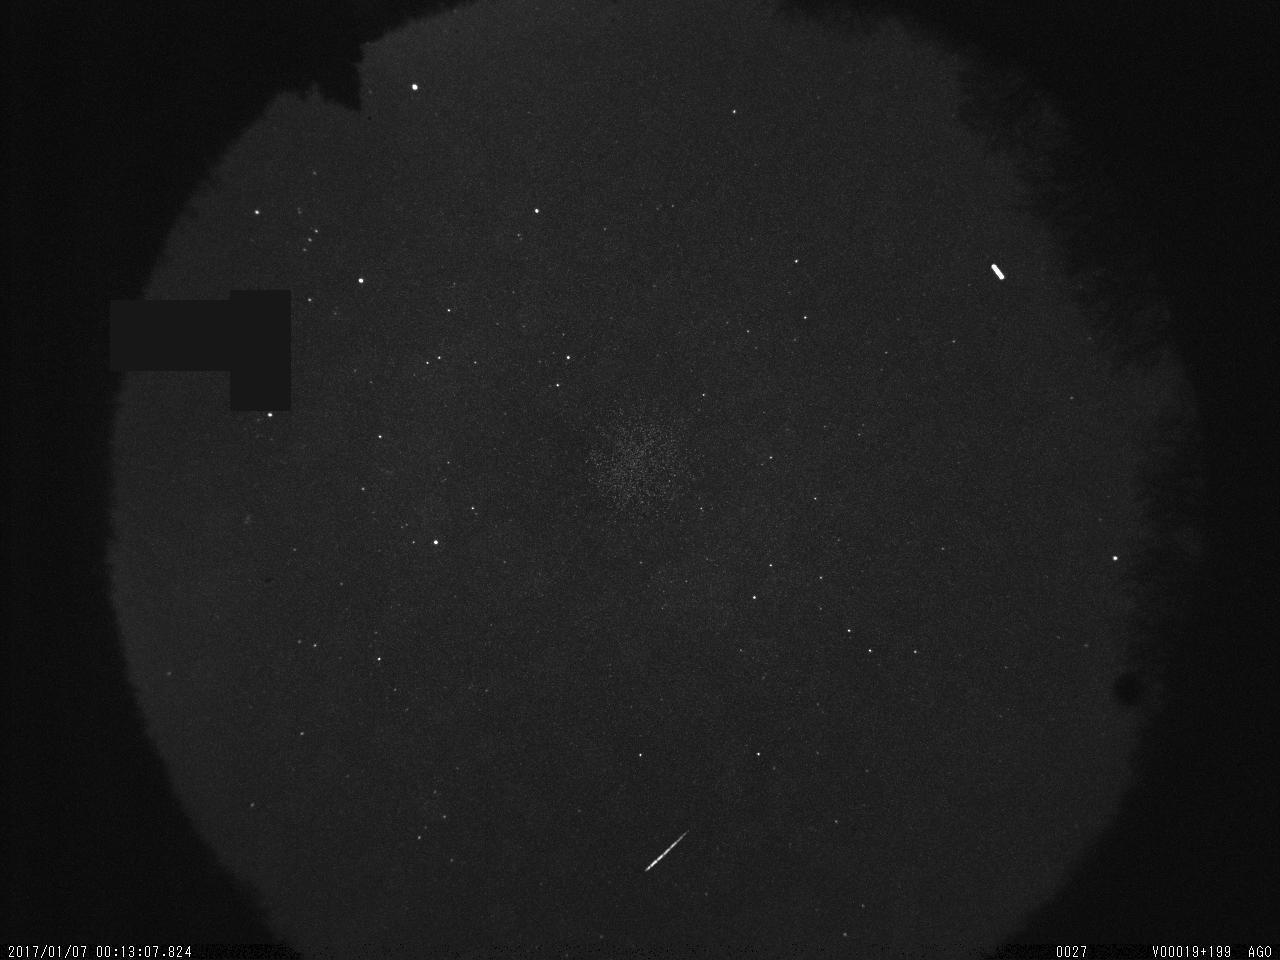Meteor: (640, 822, 697, 876)
